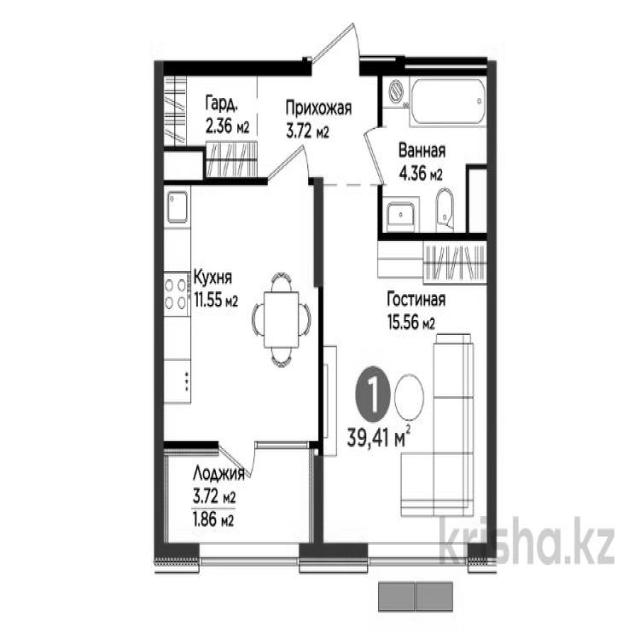balcony: (161, 452, 316, 555)
bathroom: (382, 76, 489, 236)
hallway: (258, 77, 374, 182)
kitchen: (159, 184, 318, 444)
living_room: (322, 242, 488, 552)
other: (155, 70, 257, 176)
